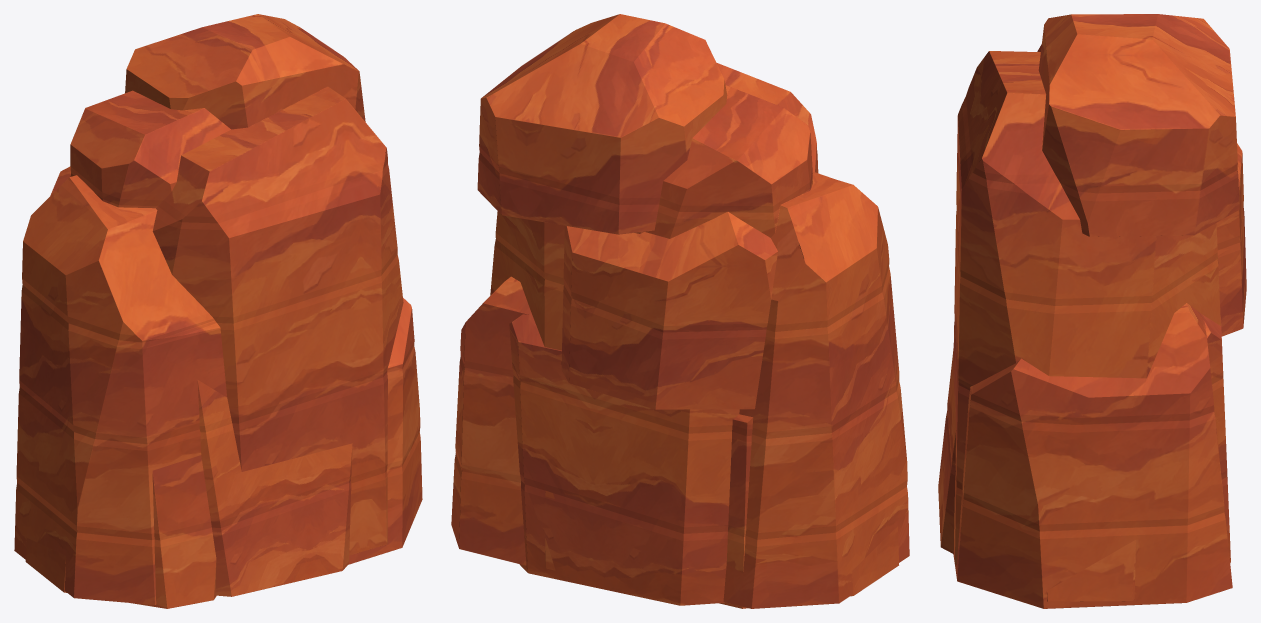
The model's file is CanyonWall_Material_v2.fbx.
3 renders of one model, left to right at view 1: azimuth 30°, elevation 25°; view 2: azimuth 150°, elevation 25°; view 3: azimuth 270°, elevation 25°, orthographic. The views are drawn at different scales.
Parts seen in each view (by area): view 1: CanyonWall_B_v2, CanyonWall_A_v2, CanyonWall_Corner_v2; view 2: CanyonWall_A_v2, CanyonWall_Corner_v2, CanyonWall_B_v2; view 3: CanyonWall_B_v2, CanyonWall_A_v2, CanyonWall_Corner_v2.
Boxes of the visible parts, x1,y1,x2,y2 form: CanyonWall_B_v2: (25, 14, 403, 608); CanyonWall_A_v2: (14, 90, 422, 604); CanyonWall_Corner_v2: (50, 166, 352, 596); CanyonWall_A_v2: (451, 85, 909, 608); CanyonWall_Corner_v2: (509, 212, 777, 605); CanyonWall_B_v2: (477, 14, 898, 608); CanyonWall_B_v2: (953, 14, 1239, 601); CanyonWall_A_v2: (953, 44, 1232, 608); CanyonWall_Corner_v2: (938, 143, 1246, 562).
Bounding box in the file's own units: 32 × 41 × 22.
Materials: 3 (3 with a texture image).
